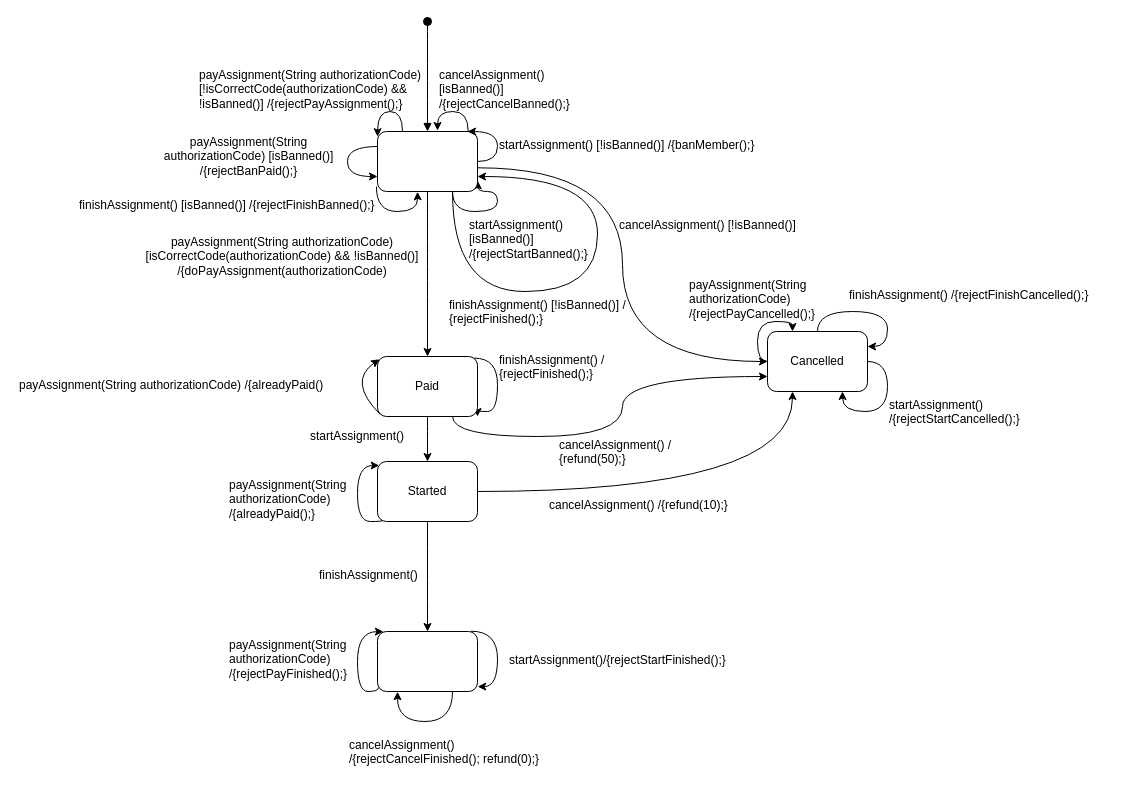
The diagram is 1124 pixels wide and 785 high, and some of its shapes have lost their labels. Each missing label, with the centre of its shape:
"Assigned" goes at point (427, 161).
"Finished" goes at point (427, 661).
